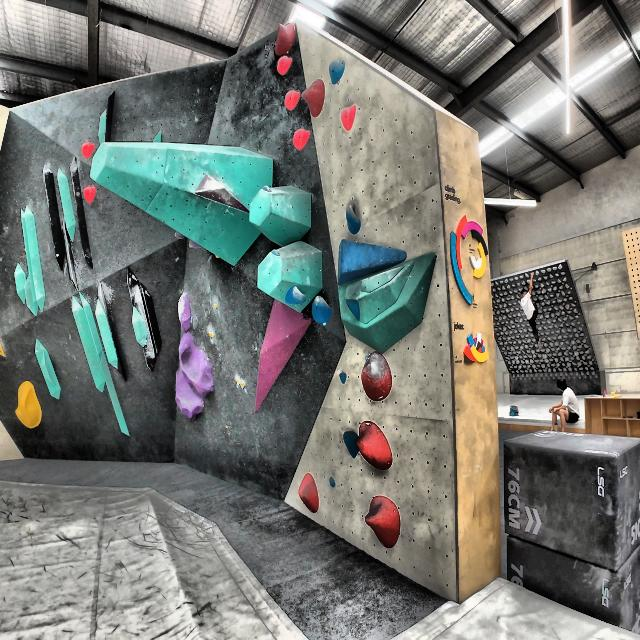Hold: (256, 298, 312, 409), (170, 334, 217, 424), (196, 175, 253, 225), (337, 238, 409, 277), (363, 494, 403, 548), (358, 420, 394, 473), (362, 352, 394, 400), (15, 382, 43, 432), (173, 293, 204, 334), (299, 73, 325, 118), (274, 22, 298, 62), (298, 474, 322, 513), (314, 290, 336, 328), (326, 63, 354, 85), (336, 104, 358, 132), (292, 125, 316, 150), (284, 283, 306, 309), (342, 207, 364, 231), (343, 429, 359, 460), (341, 297, 362, 319), (83, 183, 102, 206), (284, 86, 301, 110), (275, 57, 291, 76), (259, 180, 277, 195), (78, 142, 94, 158), (329, 476, 338, 490), (338, 371, 347, 384)
